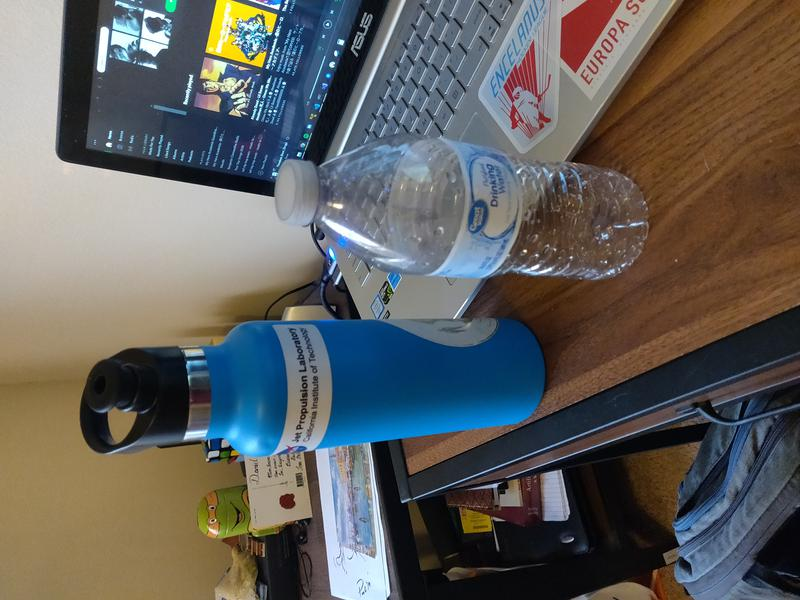bottle: (268, 132, 654, 284)
